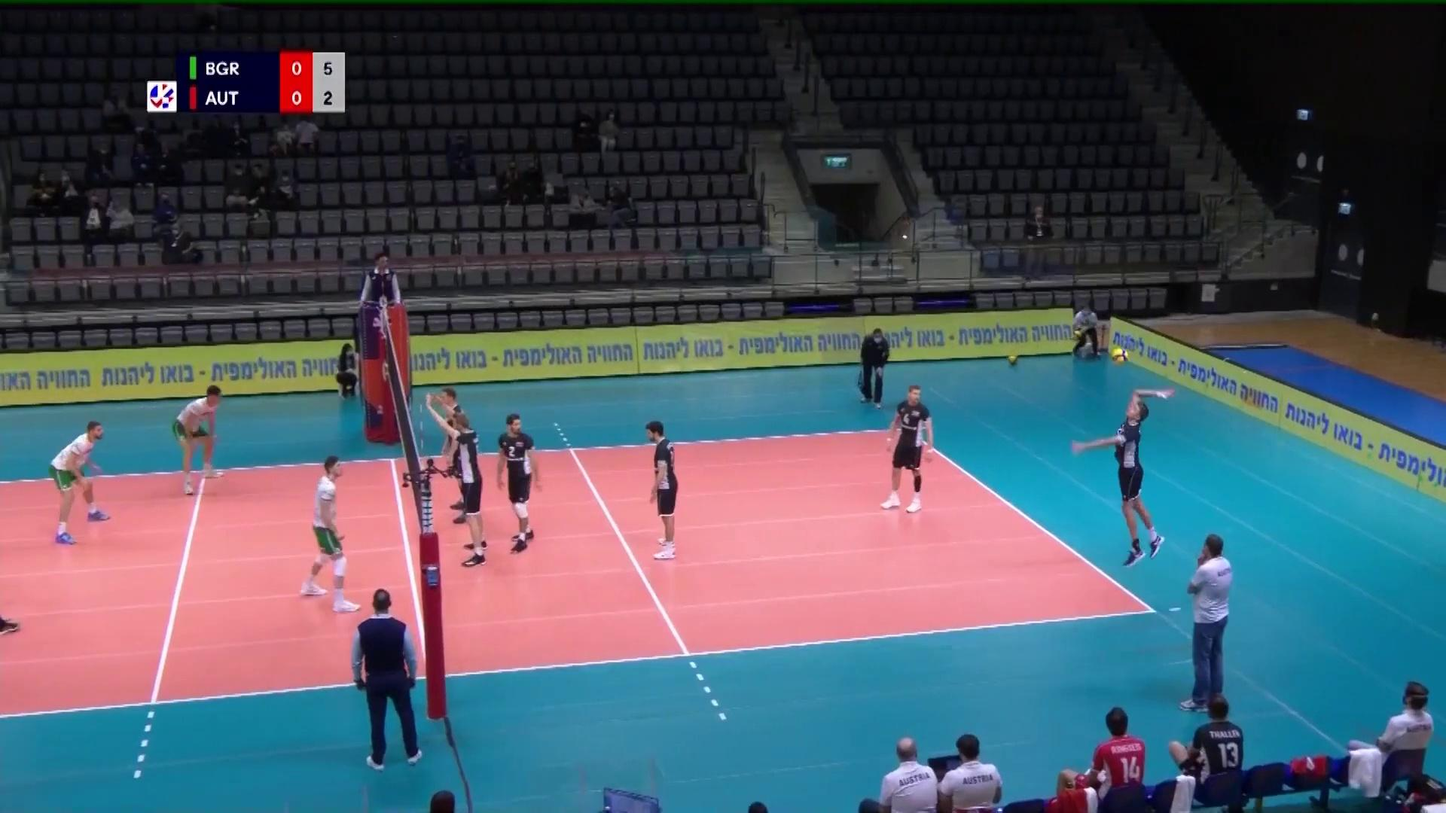ball: (1110, 347, 1130, 366)
